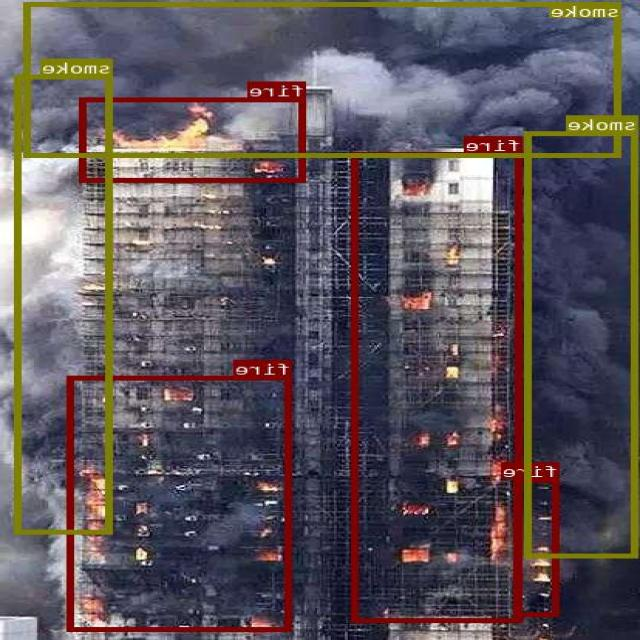fire: (354, 152, 523, 621), (70, 375, 294, 631), (82, 97, 307, 181), (516, 478, 560, 615)
smoke: (25, 2, 622, 156), (527, 130, 639, 556), (15, 74, 113, 534)
